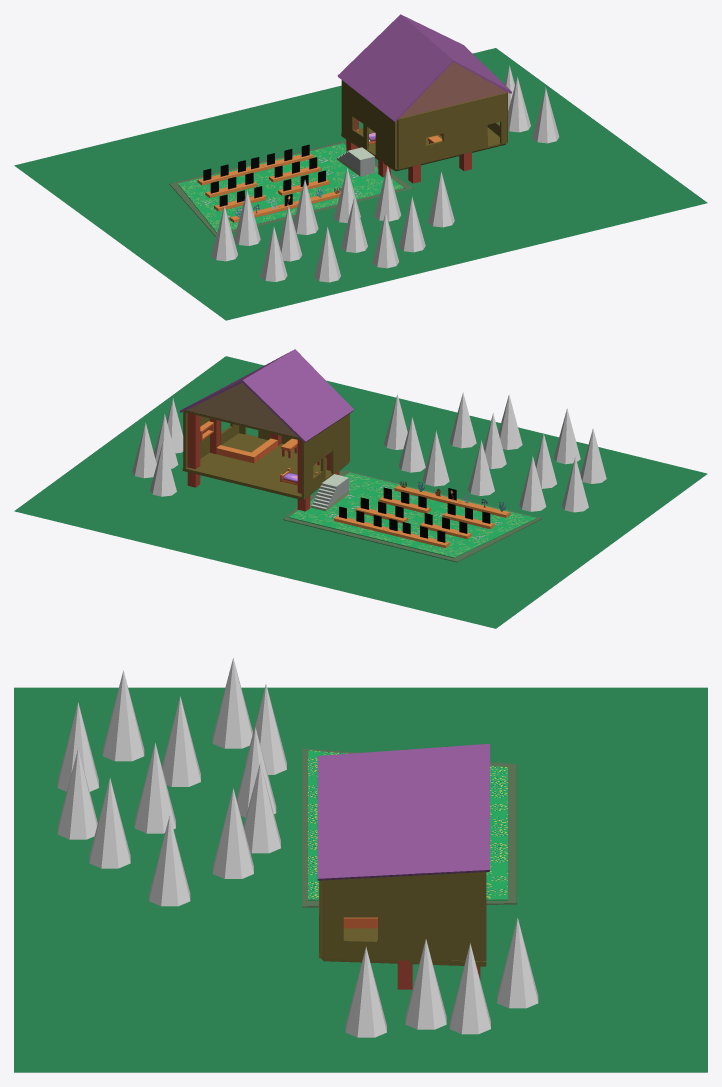
Rendered from bigSceneTest.fbx.
The picture shows the model from 3 angles, top to bottom: view 1: azimuth 30°, elevation 25°; view 2: azimuth 150°, elevation 25°; view 3: azimuth 270°, elevation 25°; orthographic projection. The views are drawn at different scales.
Parts seen in each view (by area): view 1: cuboid_7, cuboid_87, cuboid_17, cuboid_6, cuboid_4, cuboid_88, cuboid_8, cone_15, cone_1, cone_8, cone_11, cone_12 (+11 smaller); view 2: cuboid_7, cuboid_17, cuboid_87, cuboid_3, cuboid_86, cuboid_4, cuboid_8, cuboid_11, cone_4, cone_9, cone_11, cone_12 (+15 smaller); view 3: cuboid_7, cuboid_87, cuboid_5, cuboid_17, cuboid_8, cone_15, cone_3, cone_9, cone_8, cone_2, cone_1, cone (+10 smaller).
Part boxes in pixels (<box>): cuboid_7: <box>14,48,707,320</box>; cuboid_87: <box>337,14,511,122</box>; cuboid_17: <box>178,143,404,232</box>; cuboid_6: <box>397,92,507,169</box>; cuboid_4: <box>341,80,397,169</box>; cuboid_88: <box>399,62,507,118</box>; cuboid_8: <box>169,141,413,236</box>; cone_15: <box>260,226,287,281</box>; cone_1: <box>532,87,559,143</box>; cone_8: <box>427,172,454,227</box>; cone_11: <box>211,205,237,261</box>; cone_12: <box>234,190,260,245</box>; cuboid_7: <box>14,356,707,628</box>; cuboid_17: <box>288,472,536,557</box>; cuboid_87: <box>179,349,353,442</box>; cuboid_3: <box>182,433,349,500</box>; cuboid_86: <box>186,383,298,437</box>; cuboid_4: <box>301,413,349,497</box>; cuboid_8: <box>282,470,542,562</box>; cuboid_11: <box>187,413,200,487</box>; cone_4: <box>422,430,449,486</box>; cone_9: <box>449,392,476,448</box>; cone_11: <box>562,457,588,512</box>; cone_12: <box>519,456,546,511</box>; cuboid_7: <box>14,687,707,1072</box>; cuboid_87: <box>317,743,489,880</box>; cuboid_5: <box>323,872,486,961</box>; cuboid_17: <box>307,750,507,900</box>; cuboid_8: <box>302,748,516,907</box>; cone_15: <box>102,670,144,761</box>; cone_3: <box>449,943,490,1034</box>; cone_9: <box>89,778,130,868</box>; cone_8: <box>149,815,190,906</box>; cone_2: <box>497,917,538,1008</box>; cone_1: <box>345,946,386,1037</box>; cone: <box>405,939,446,1029</box>.
Size of the model in its own units: 5908 by 1616 by 4502.
18 materials, 18 textured.
